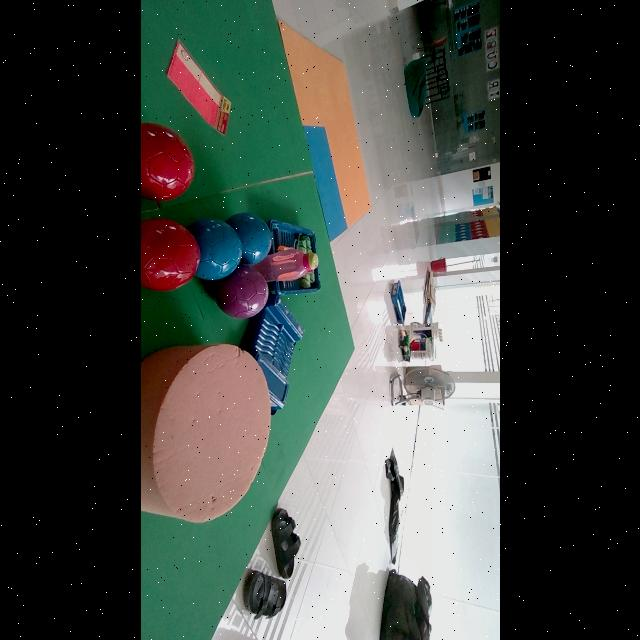B: (188, 217, 242, 280), (226, 213, 271, 264)
P: (214, 264, 268, 317)
R: (140, 218, 200, 291), (140, 123, 194, 201)
